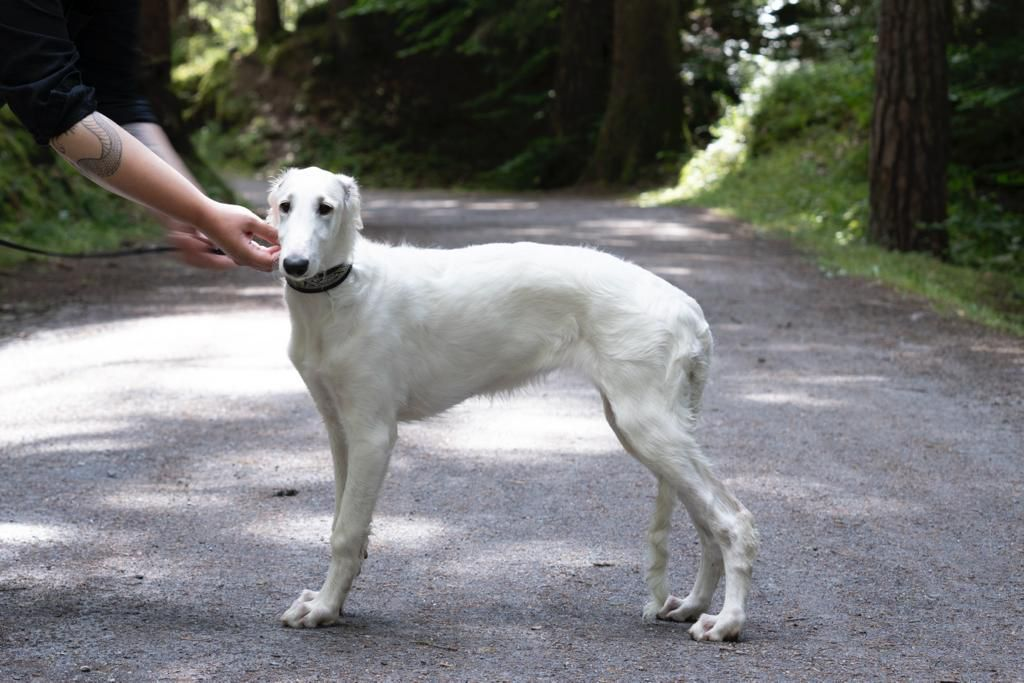borzoi: (255, 167, 782, 646)
